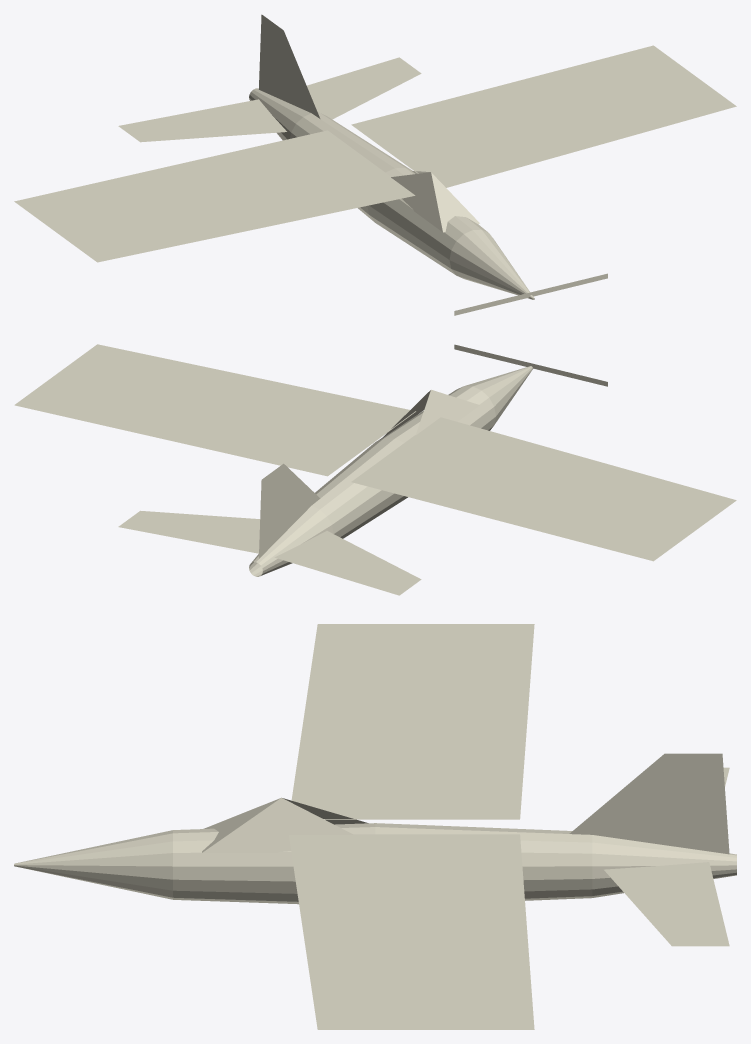
3 renders of one model, top to bottom at view 1: azimuth 30°, elevation 25°; view 2: azimuth 150°, elevation 25°; view 3: azimuth 270°, elevation 25°, orthographic. The views are drawn at different scales.
Bounding box in the file's own units: 11 × 1.89 × 8.28.
